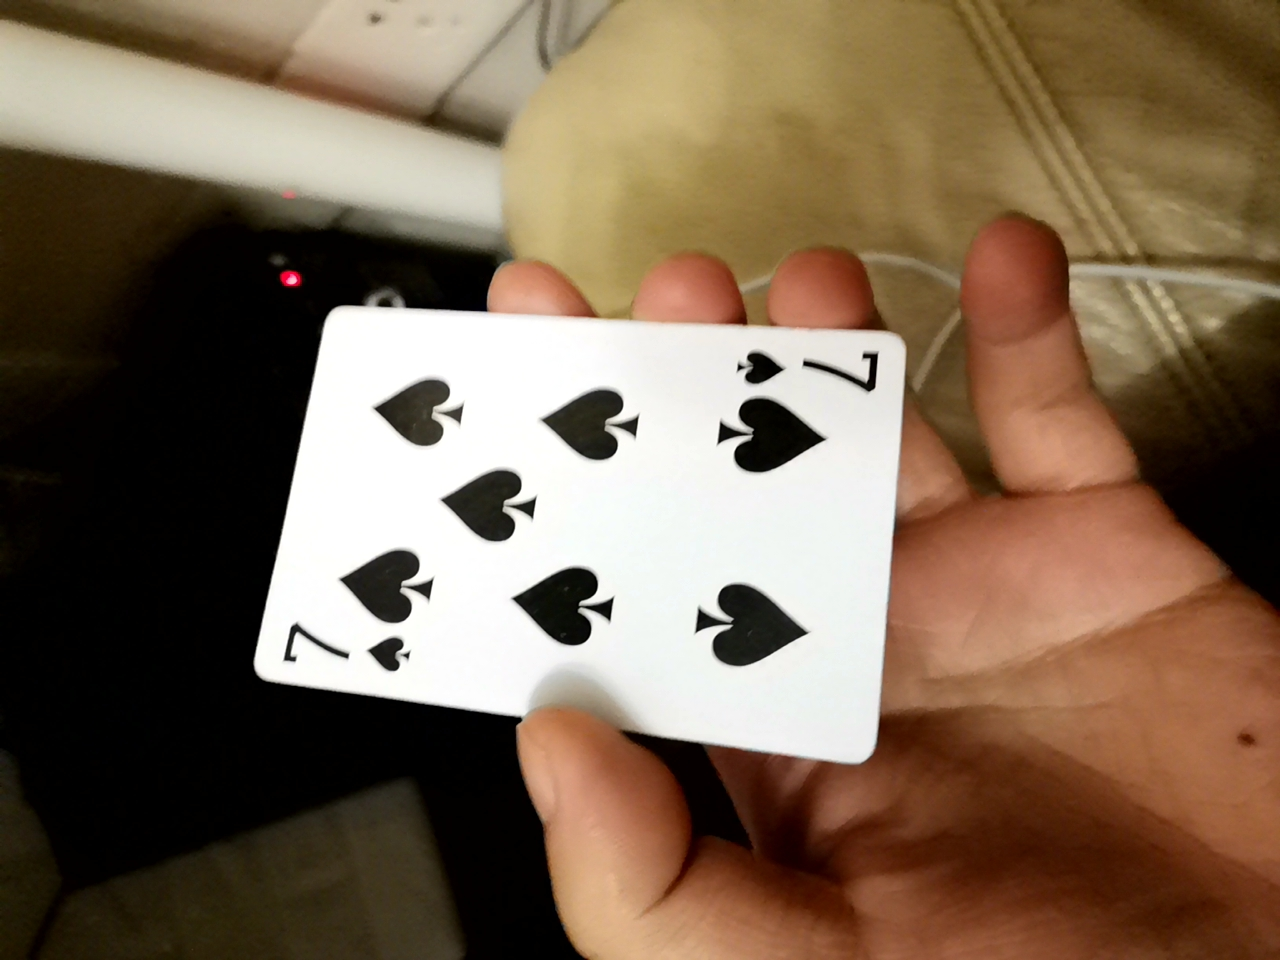ht 7: (293, 348, 939, 778)
